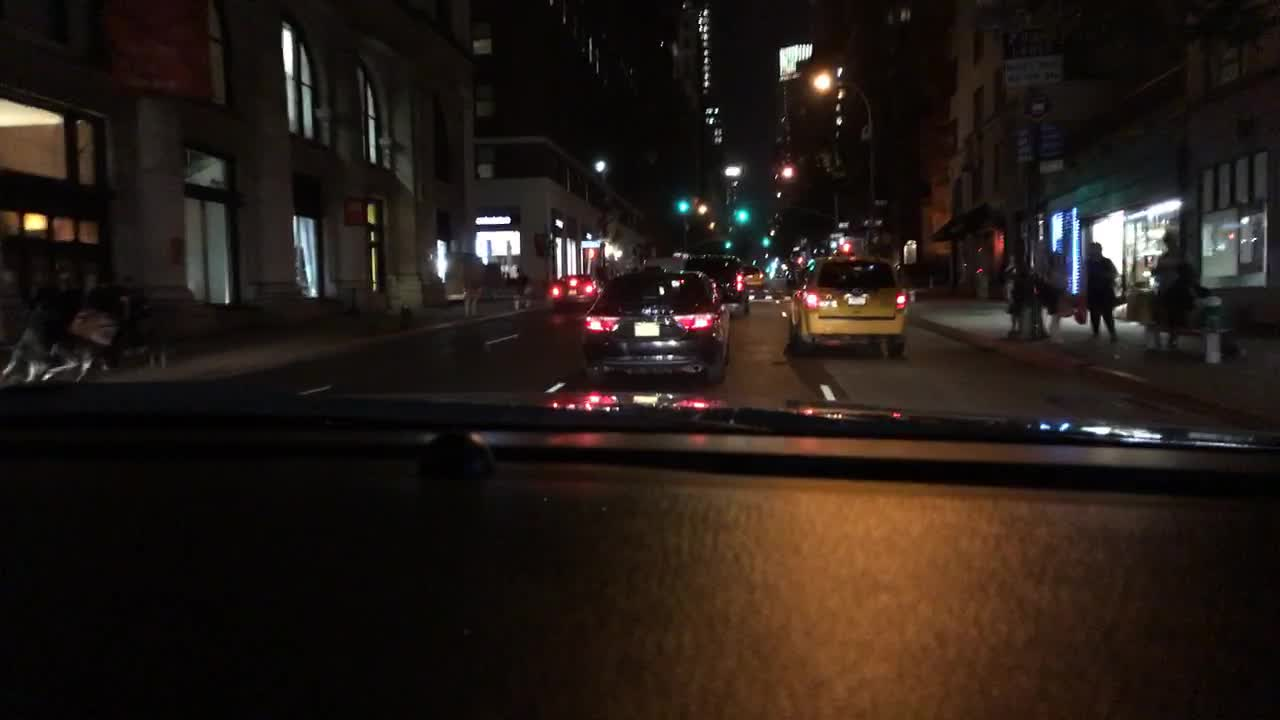car: (573, 266, 733, 384), (63, 281, 202, 375), (790, 248, 904, 360), (678, 251, 750, 310), (544, 274, 598, 312), (767, 251, 792, 303), (744, 261, 766, 295)
person: (1146, 229, 1197, 359), (1079, 240, 1122, 346), (1003, 246, 1031, 337), (1044, 246, 1068, 339), (459, 250, 486, 320)
traffic light: (674, 197, 694, 214), (734, 204, 747, 223), (758, 234, 771, 251), (759, 251, 776, 260), (723, 239, 734, 249)
traffic sign: (472, 38, 491, 57)
